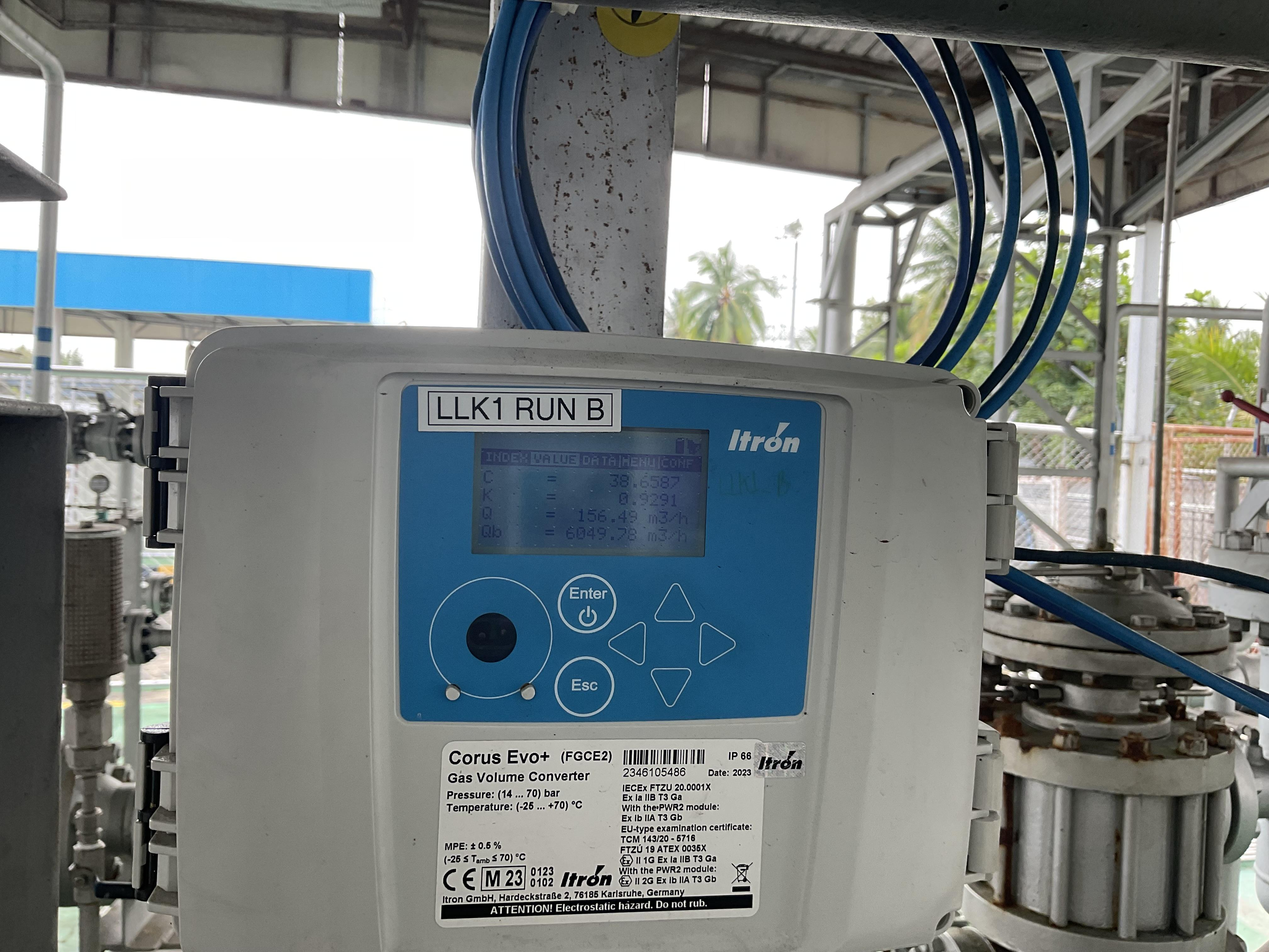digital_screen: (472, 423, 709, 559)
